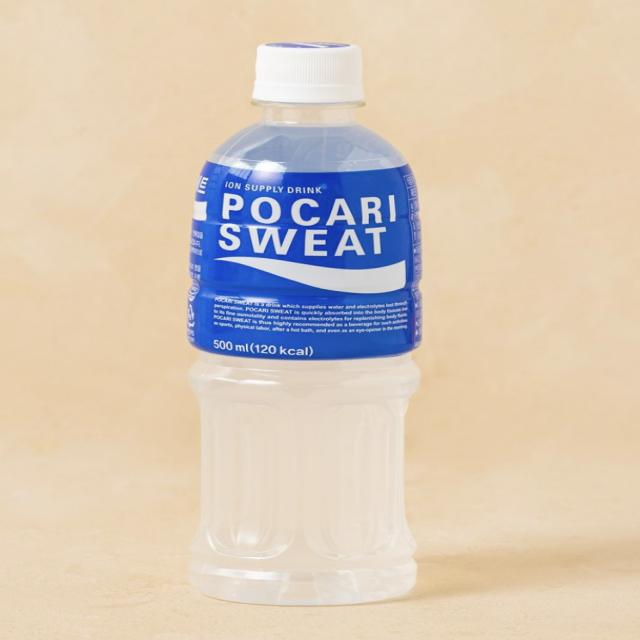recyclable: (174, 25, 450, 609)
